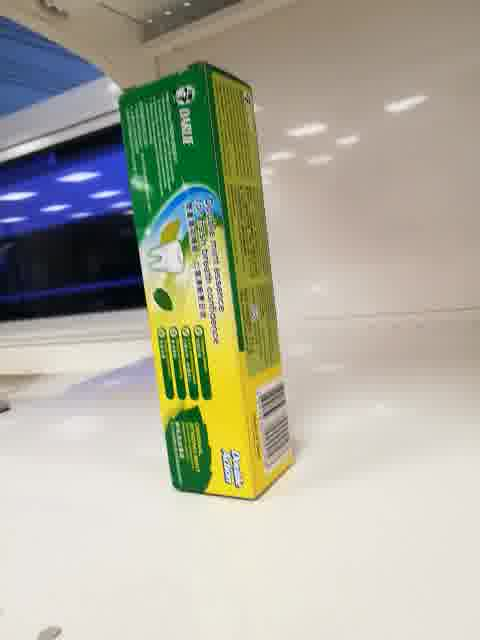toothpaste: (120, 60, 296, 500)
